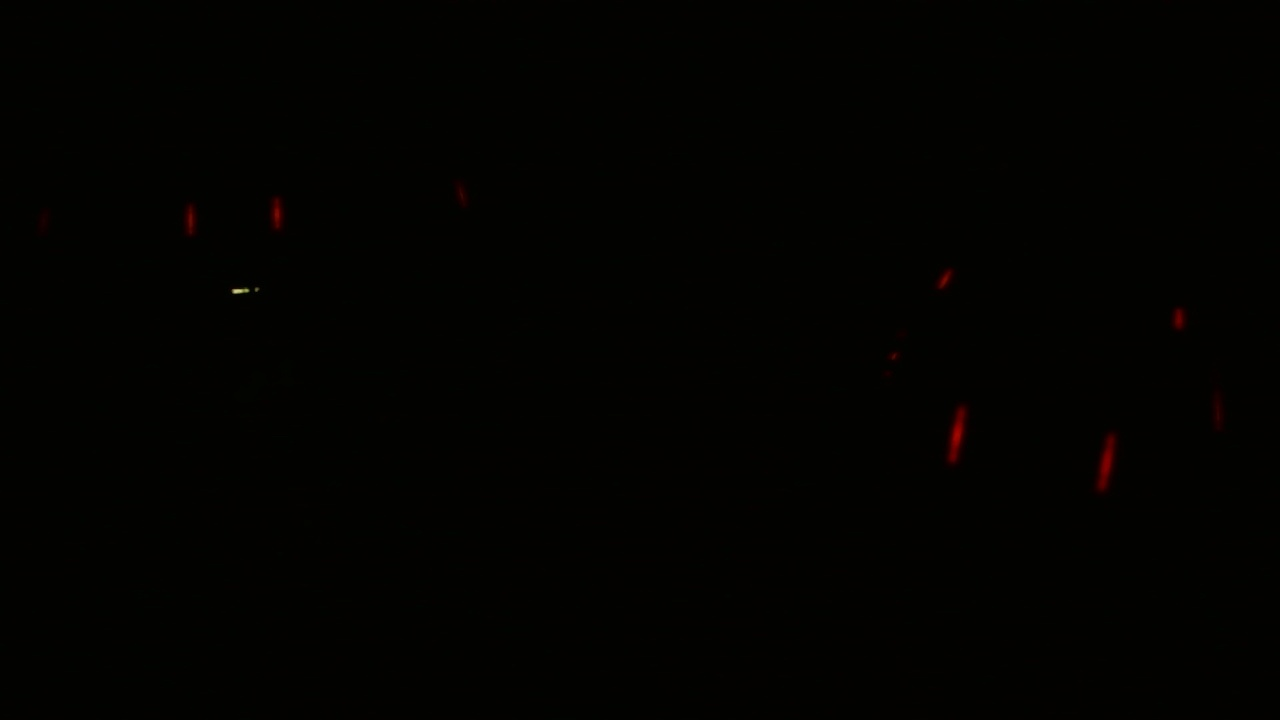pair1: (945, 399, 1114, 492), (177, 196, 287, 237)
